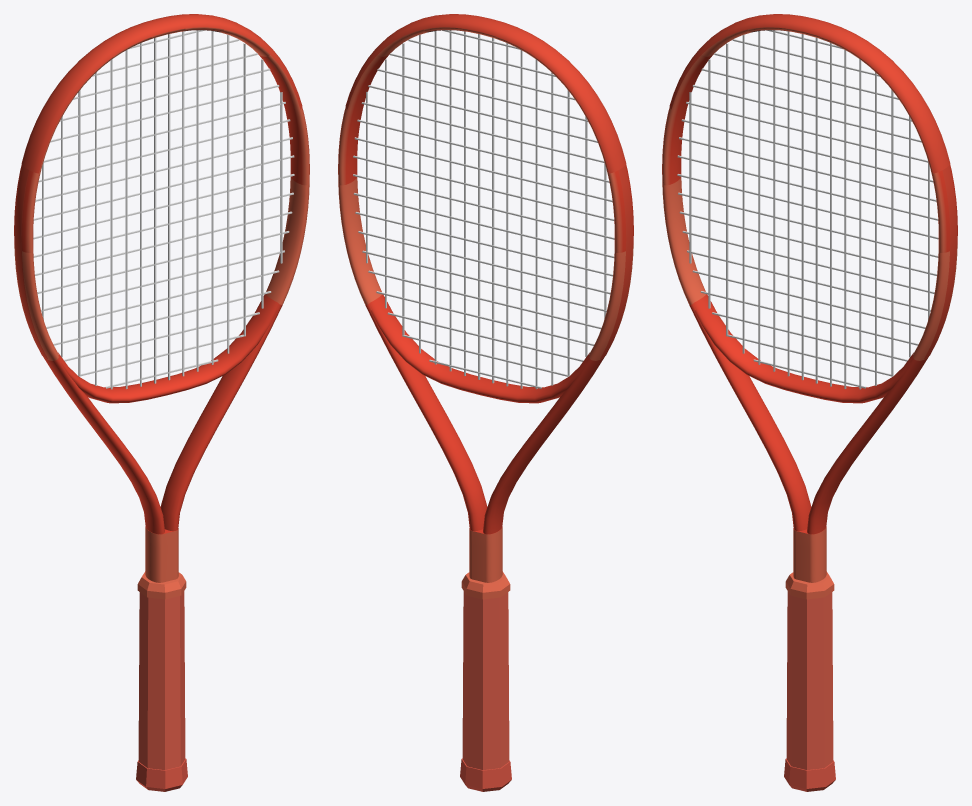
File: head-radical-team-2025.glb
3 views of the same model, side by side, from view 1: azimuth 30°, elevation 25°; view 2: azimuth 150°, elevation 25°; view 3: azimuth 330°, elevation 25° (orthographic).
Visible parts, largest first — view 1: frame, strings_mains, strings_crosses, grip, bumper, grommets, butt_cap, collar; view 2: frame, strings_mains, strings_crosses, grip, bumper, grommets, butt_cap, collar; view 3: frame, strings_mains, strings_crosses, grip, bumper, grommets, butt_cap, collar.
Part boxes in pixels (bbox=[...]): frame: bbox=[14, 27, 309, 582]; strings_mains: bbox=[42, 30, 282, 389]; strings_crosses: bbox=[33, 30, 294, 388]; grip: bbox=[138, 591, 185, 769]; bumper: bbox=[21, 14, 302, 173]; grommets: bbox=[15, 166, 47, 359]; butt_cap: bbox=[136, 758, 187, 791]; collar: bbox=[137, 571, 186, 599]; frame: bbox=[338, 27, 633, 582]; strings_mains: bbox=[366, 30, 606, 389]; strings_crosses: bbox=[353, 30, 614, 388]; grip: bbox=[462, 591, 509, 769]; bumper: bbox=[345, 14, 626, 173]; grommets: bbox=[600, 166, 632, 359]; butt_cap: bbox=[460, 758, 511, 791]; collar: bbox=[461, 571, 510, 599]; frame: bbox=[662, 27, 957, 582]; strings_mains: bbox=[689, 30, 929, 389]; strings_crosses: bbox=[677, 30, 938, 388]; grip: bbox=[786, 591, 833, 769]; bumper: bbox=[669, 14, 950, 173]; grommets: bbox=[924, 166, 956, 359]; butt_cap: bbox=[784, 758, 835, 791]; collar: bbox=[785, 571, 834, 599].
Size of the model in its own units: 0.2721 by 0.6861 by 0.0396.
